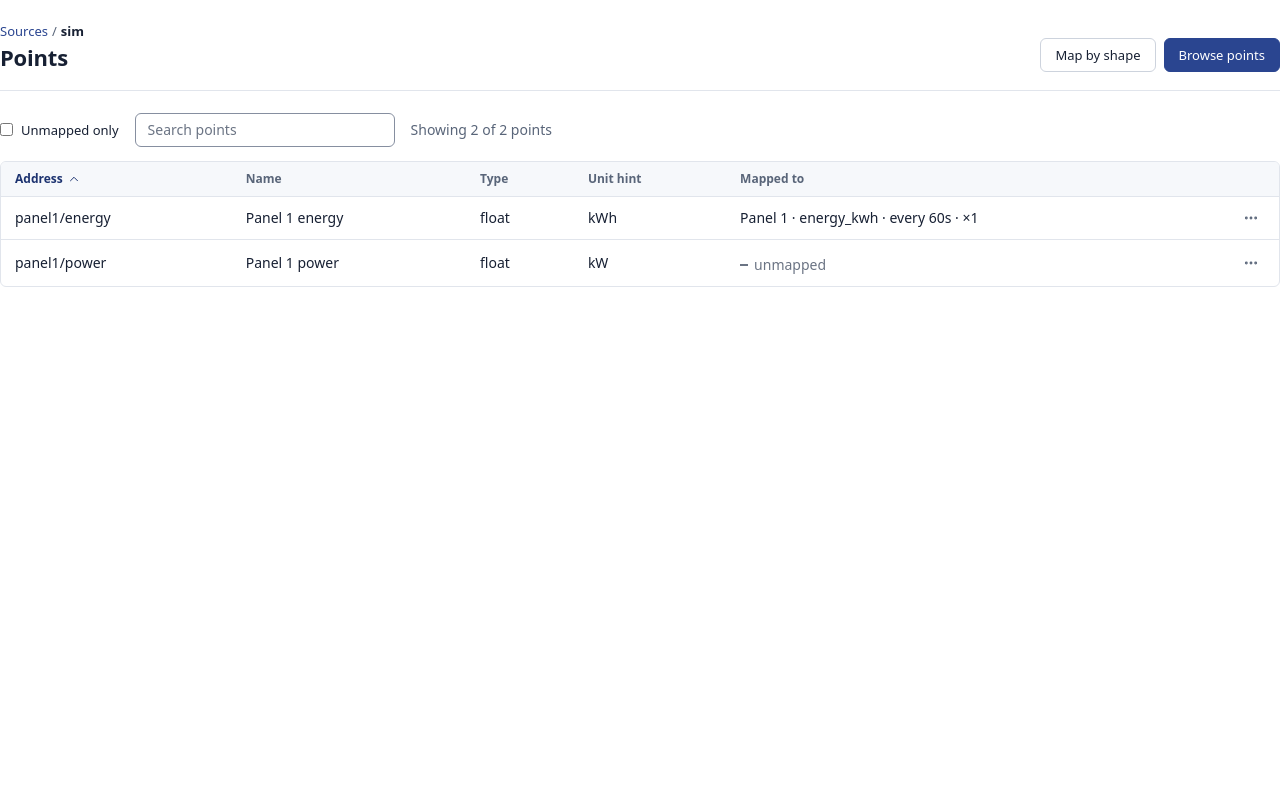
SourcePointsPage › shows the API conflict message
Click the button named "Actions for " at (1251, 263), box x1=1237 y1=249 x2=1265 y2=277
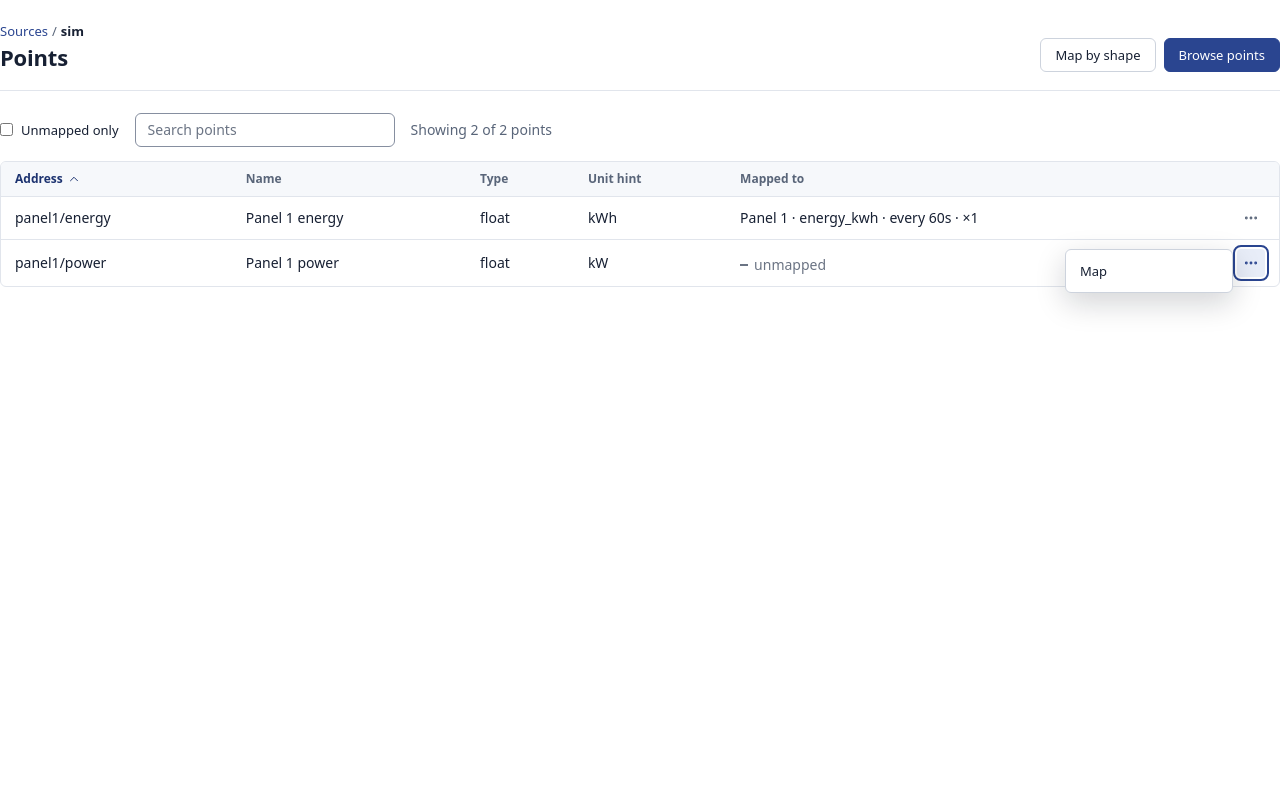
Click the menu item "Map" at (1149, 271), box x1=1070 y1=254 x2=1228 y2=288
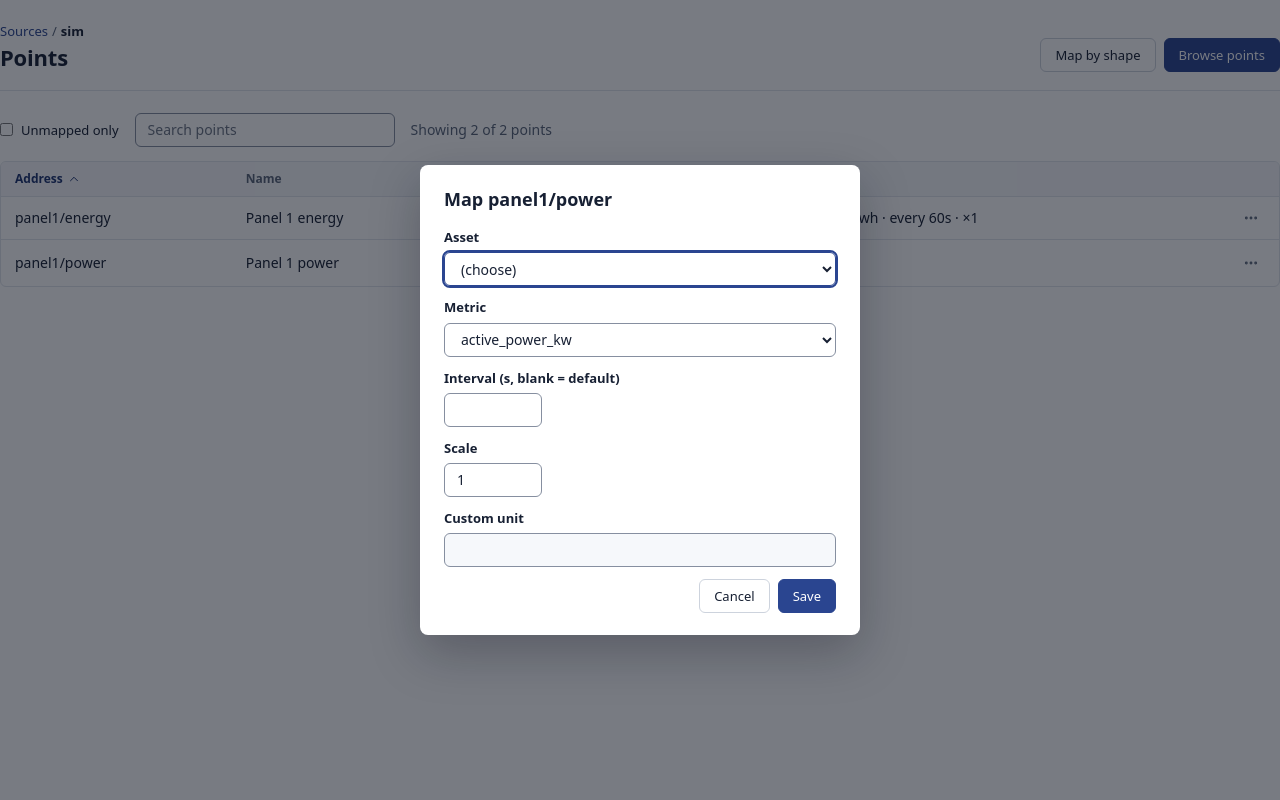
Select "Panel 1" in the dropdown labelled "Asset" at (640, 269), box x1=444 y1=252 x2=836 y2=286
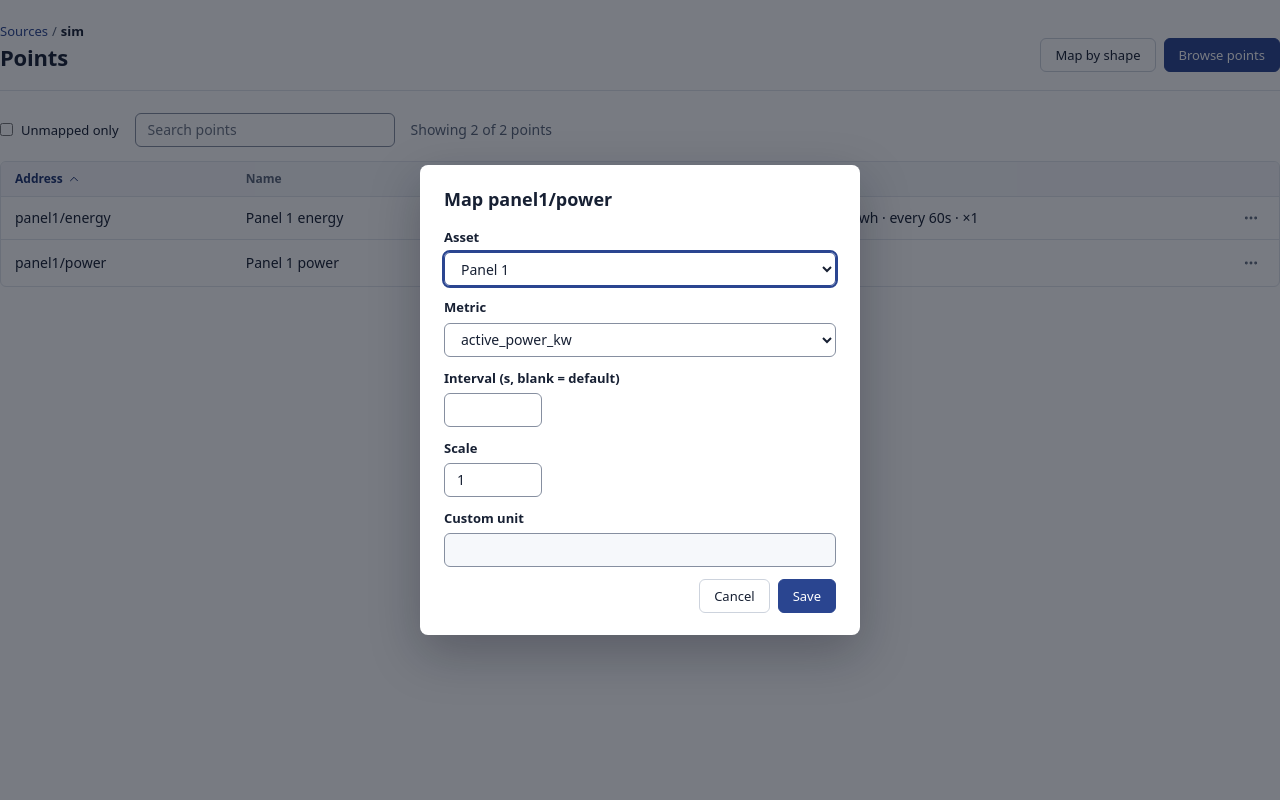
Click the button "Save" at (807, 596), box x1=778 y1=579 x2=836 y2=613
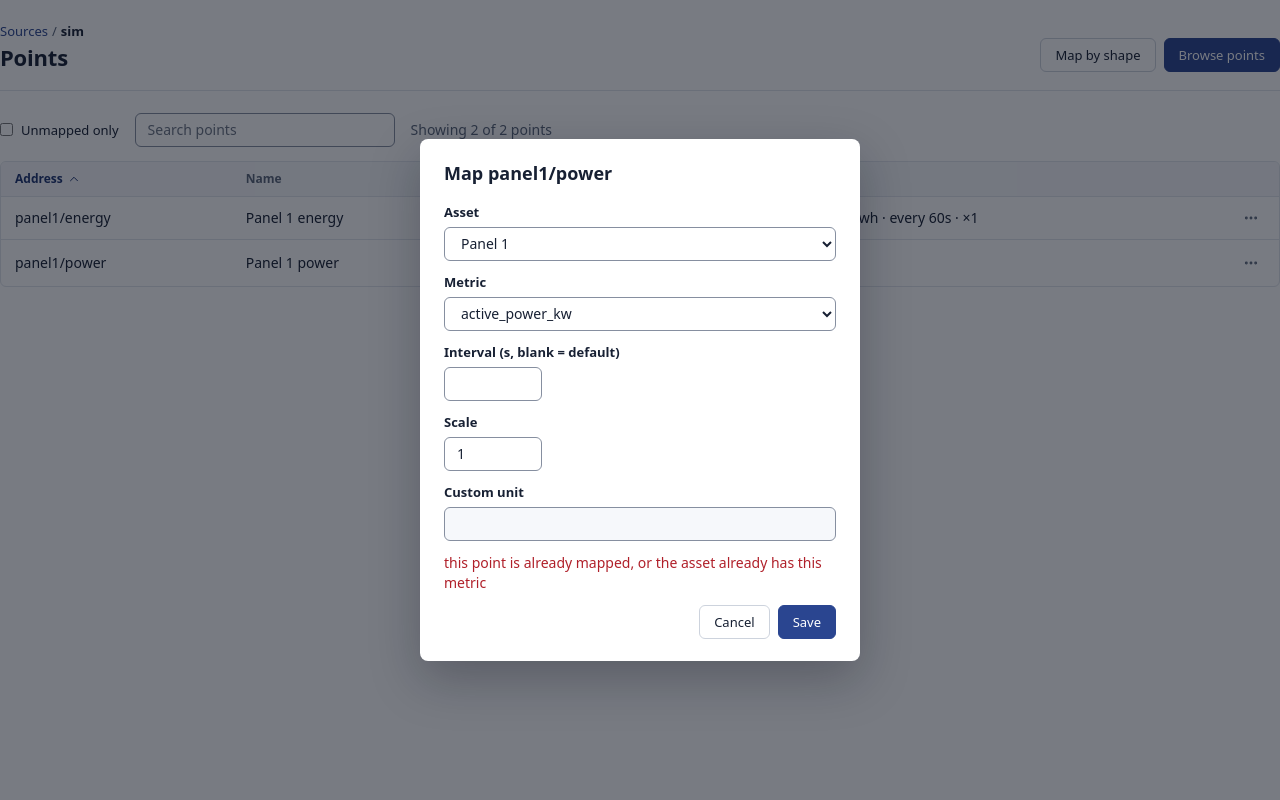
Result: the message shows "already mapped" at x1=444 y1=554 x2=822 y2=592
